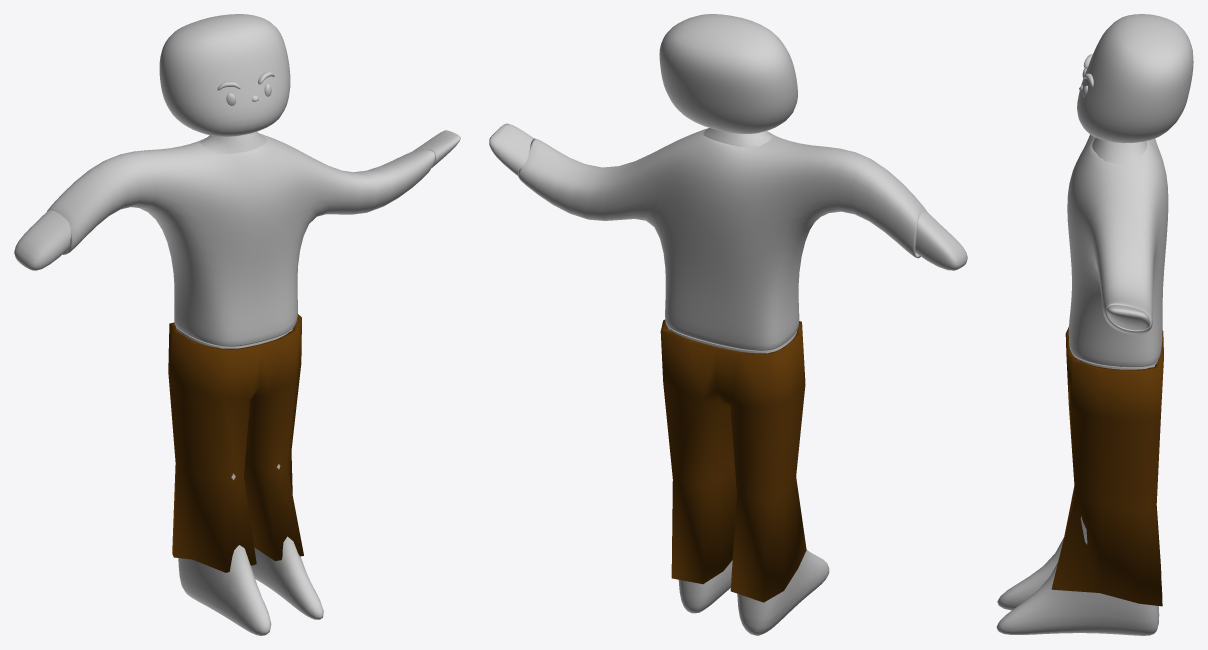
Rendered from ningen.obj.
3 renders of one model, left to right at view 1: azimuth 30°, elevation 25°; view 2: azimuth 150°, elevation 25°; view 3: azimuth 270°, elevation 25°, orthographic. The views are drawn at different scales.
Visible parts, largest first — view 1: head.001; view 2: head.001; view 3: head.001.
Boxes of the visible parts, left/top/right/bottom form: head.001: left=14, top=14, right=460, bottom=635; head.001: left=489, top=14, right=967, bottom=635; head.001: left=996, top=14, right=1193, bottom=635.
Bounding box in the file's own units: 3.2 × 3.96 × 1.18.
